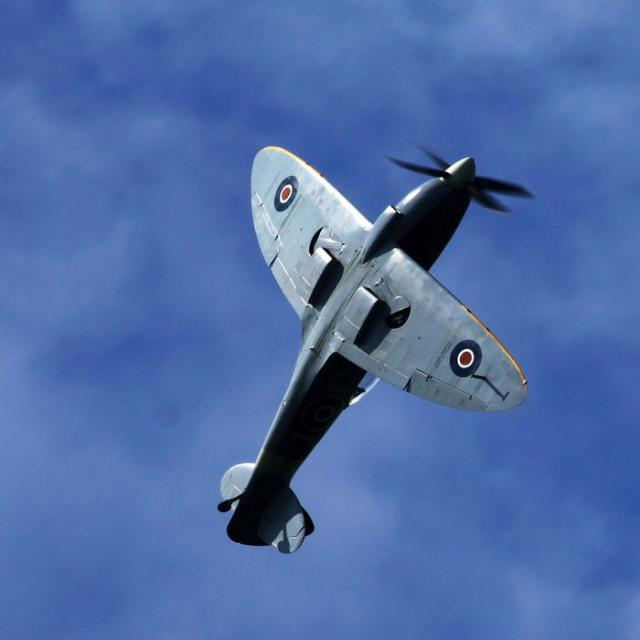iha: (212, 141, 528, 555)
